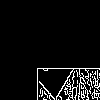B: (25, 25, 65, 83)
